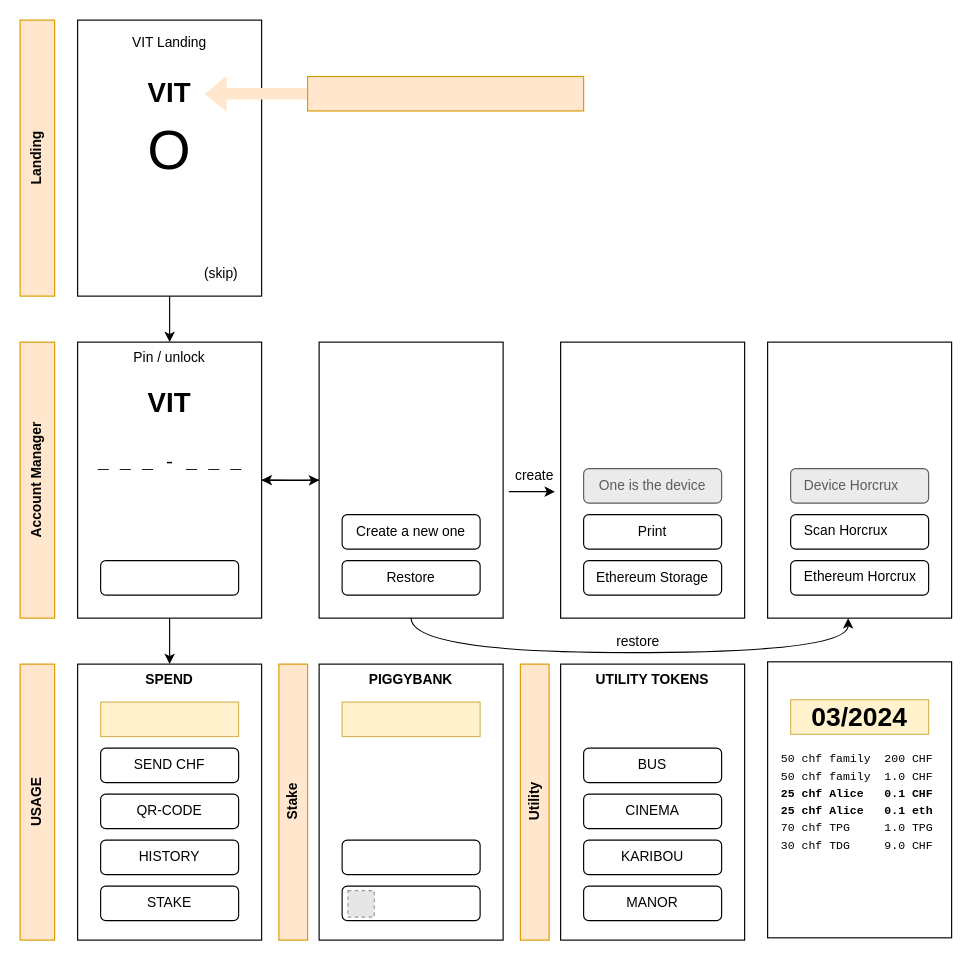
Some shapes in this 972 by 960 pixel diagram are drawn without their labels. Grey dashed boxes stand in for pictures. The box of each missing label's shape, as (x1, y1, x2, y2) in pixels:
0.00 xCHF: (341, 701, 480, 737)
354.56 xCHF: (99, 701, 239, 737)
Create Identity with 3 Horcruxes: (559, 341, 745, 618)
DAI ~18% /an: (341, 885, 480, 921)
ETH ~7% /an: (341, 839, 480, 875)
No more PIN?: (99, 559, 239, 595)
Restore Identity needs 2 Horcruxes: (766, 341, 952, 618)
TRANSACTIONS: (766, 661, 952, 938)
V it I sn't T wint: (306, 75, 584, 111)
Your Horcruxes Identity: (318, 341, 503, 618)
